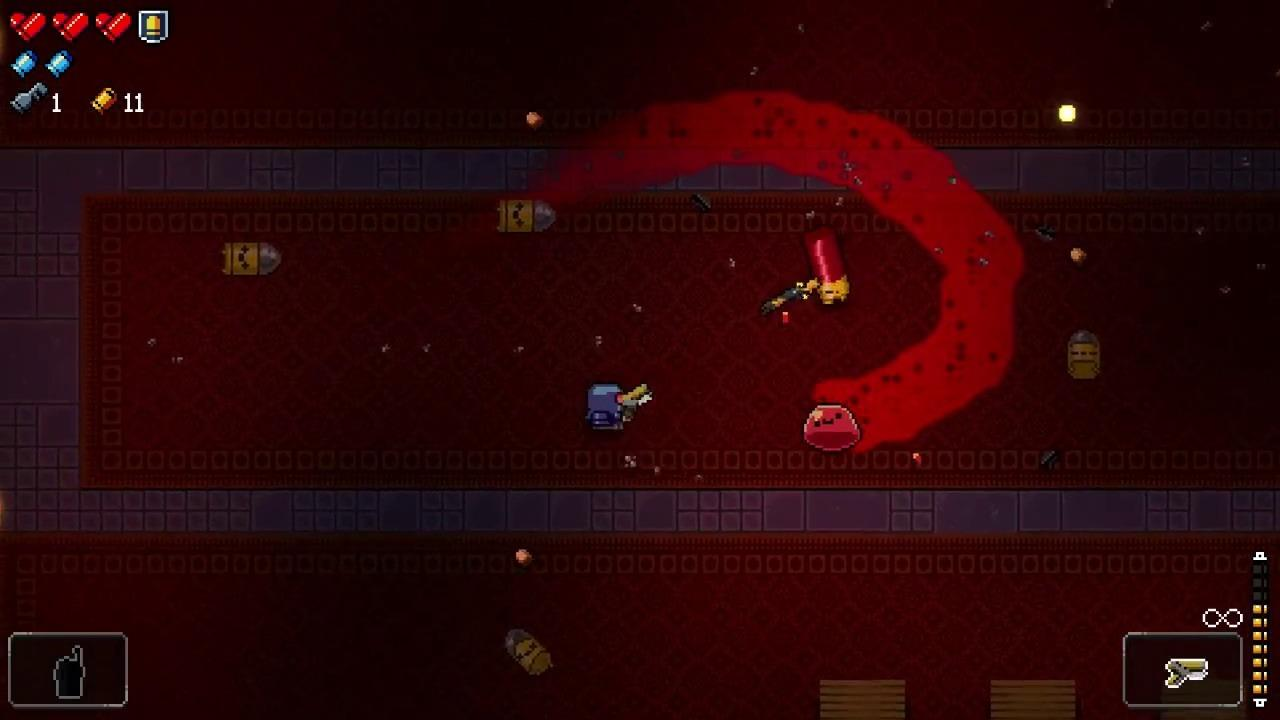blobulon_l: (801, 402, 862, 452)
dead_bullet_kin: (503, 627, 554, 676), (218, 240, 282, 274), (494, 201, 558, 233), (1065, 327, 1101, 381)
player: (587, 385, 626, 432)
red_shotgun_kin: (803, 224, 851, 305)
table: (988, 680, 1076, 720), (819, 680, 906, 720)
